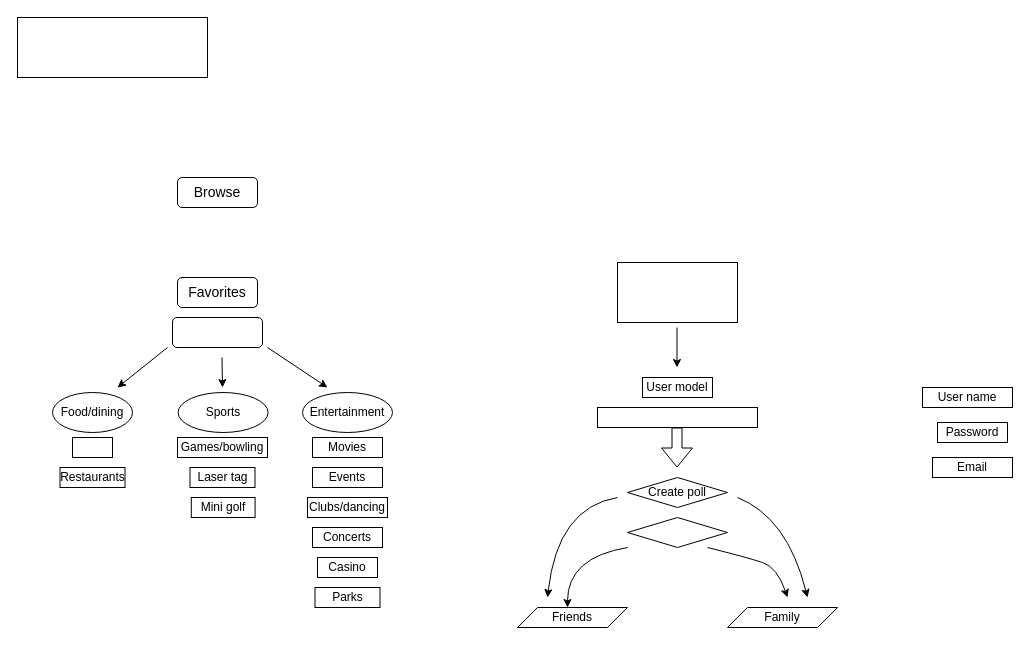
Some shapes in this 1030 by 645 pixel diagram are drawn without their labels. Here are the shapes that lost their labels. From the top down, the centre of each, then its label:
the point at 112,47: "Poll your meet up places with your friends or family"
the point at 677,292: account
the point at 217,332: New Locations
the point at 677,417: Log in to connect to the polls
the point at 92,447: Bars
the point at 677,532: Poll history
